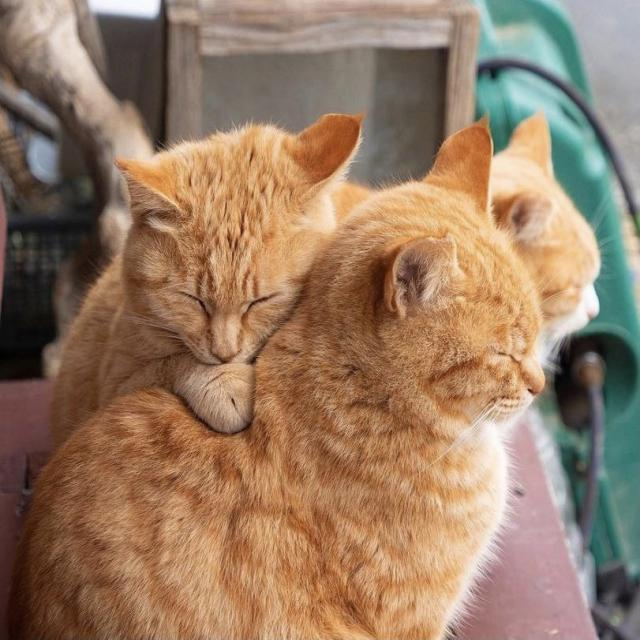Cats: (22, 119, 551, 640), (41, 108, 372, 437), (488, 86, 633, 348)
